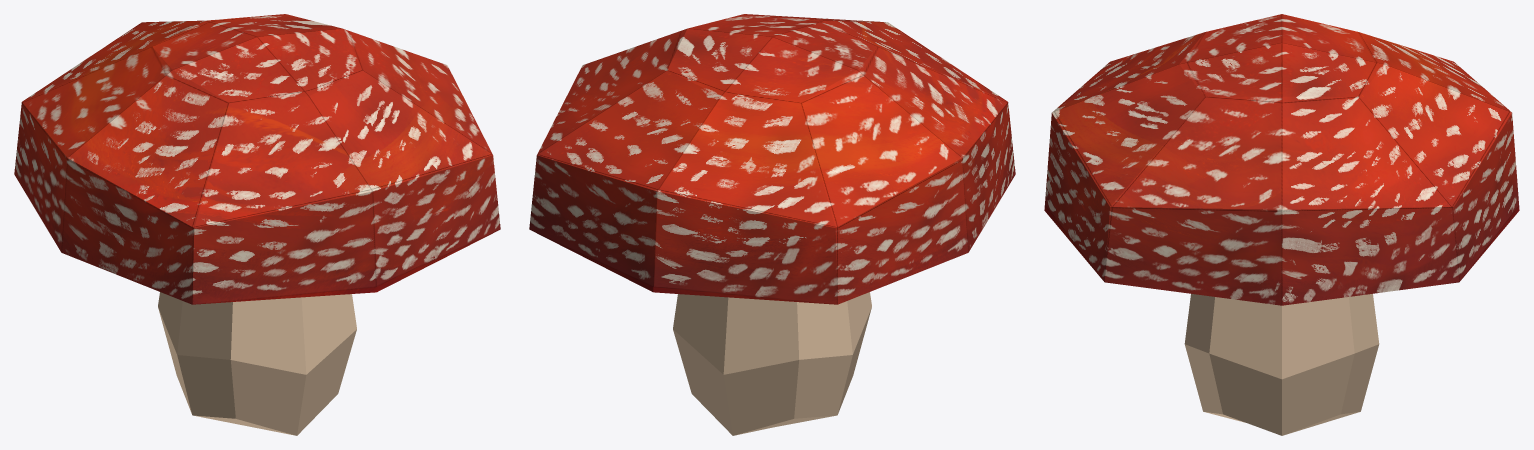
Rendered from moshroom.fbx.
3 views of the same model, side by side, from view 1: azimuth 30°, elevation 25°; view 2: azimuth 150°, elevation 25°; view 3: azimuth 270°, elevation 25° (orthographic).
Parts seen in each view (by area): view 1: Cube; view 2: Cube; view 3: Cube.
Part boxes in pixels (left/top/right/bottom): Cube: left=14, top=14, right=500, bottom=435; Cube: left=529, top=14, right=1015, bottom=435; Cube: left=1044, top=14, right=1519, bottom=435.
Size of the model in its own units: 766 by 729 by 806.
